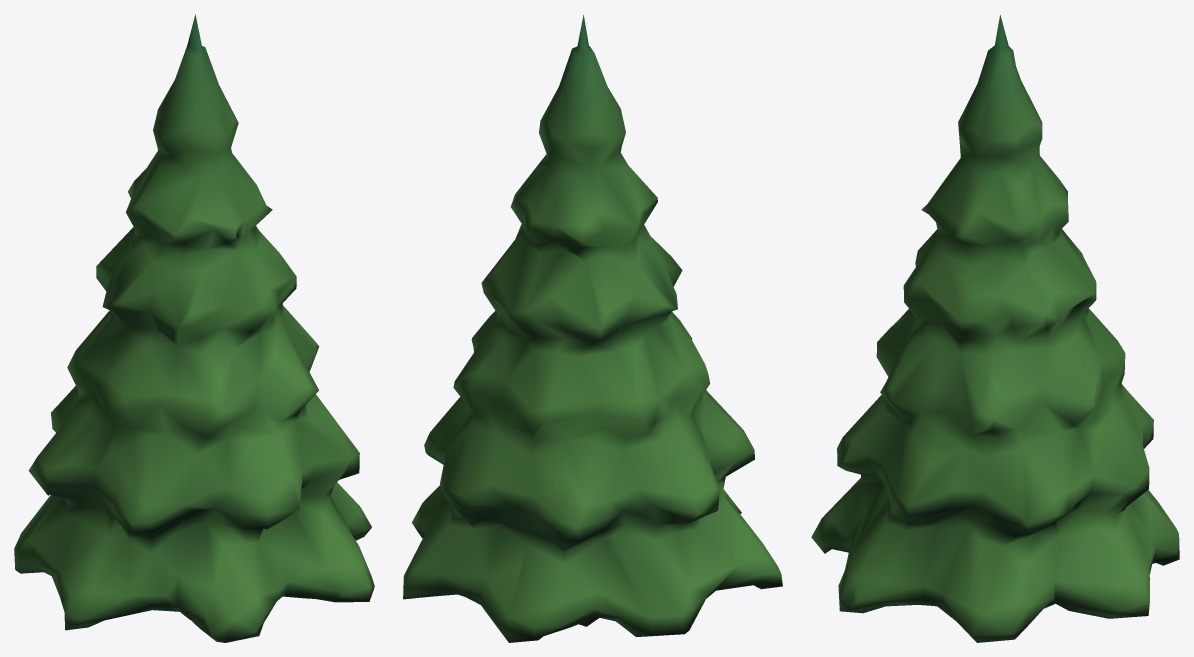
File: Pine_A.glb
The picture shows the model from 3 angles, left to right: view 1: azimuth 30°, elevation 25°; view 2: azimuth 150°, elevation 25°; view 3: azimuth 270°, elevation 25°; orthographic projection.
Visible parts, largest first — view 1: Pine_A; view 2: Pine_A; view 3: Pine_A.
Part boxes in pixels (x1=…): Pine_A: x1=14, y1=14, x2=374, y2=642; Pine_A: x1=403, y1=15, x2=782, y2=642; Pine_A: x1=811, y1=15, x2=1179, y2=642.
Size of the model in its own units: 5.52 by 9.65 by 5.37.
